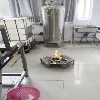fire: (53, 50, 62, 60)
